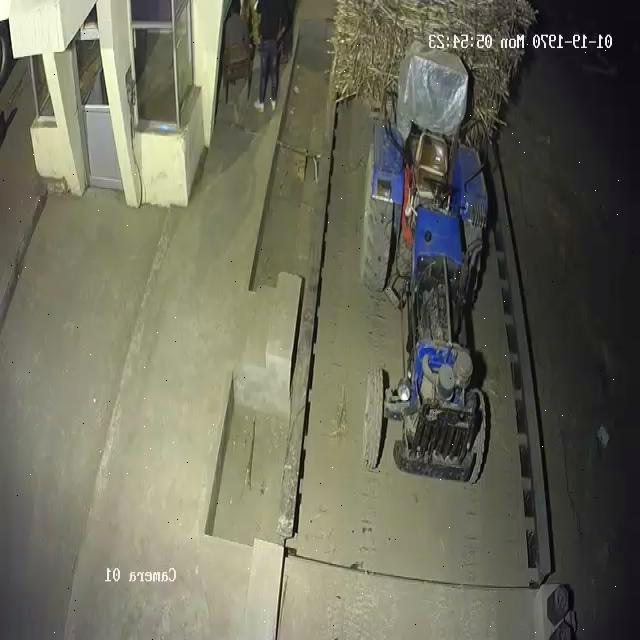Tratores - v5 YOLO V8L 2024-11-13: (370, 116, 494, 490)
